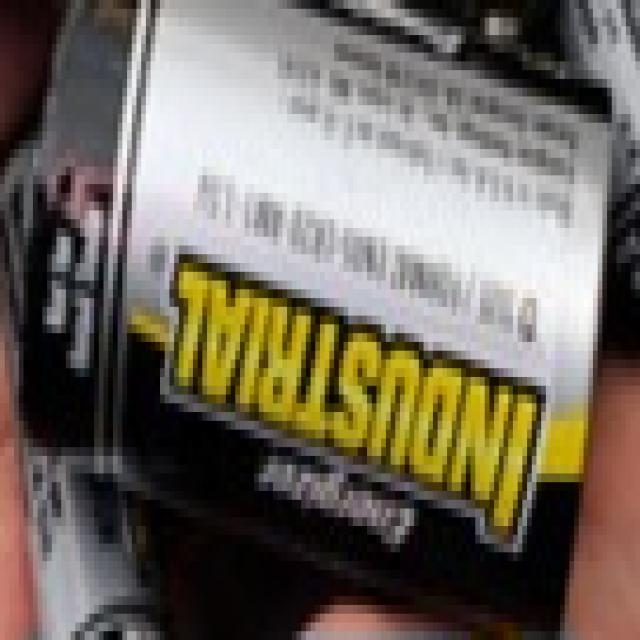battery: (25, 0, 640, 599)
